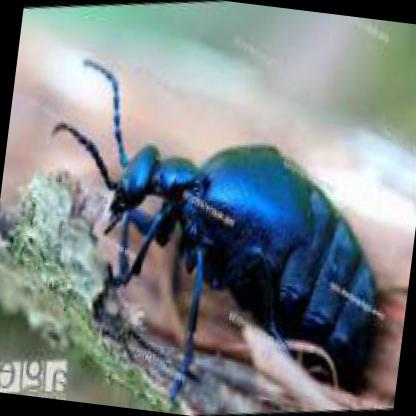blister beetle: (58, 57, 375, 391)
